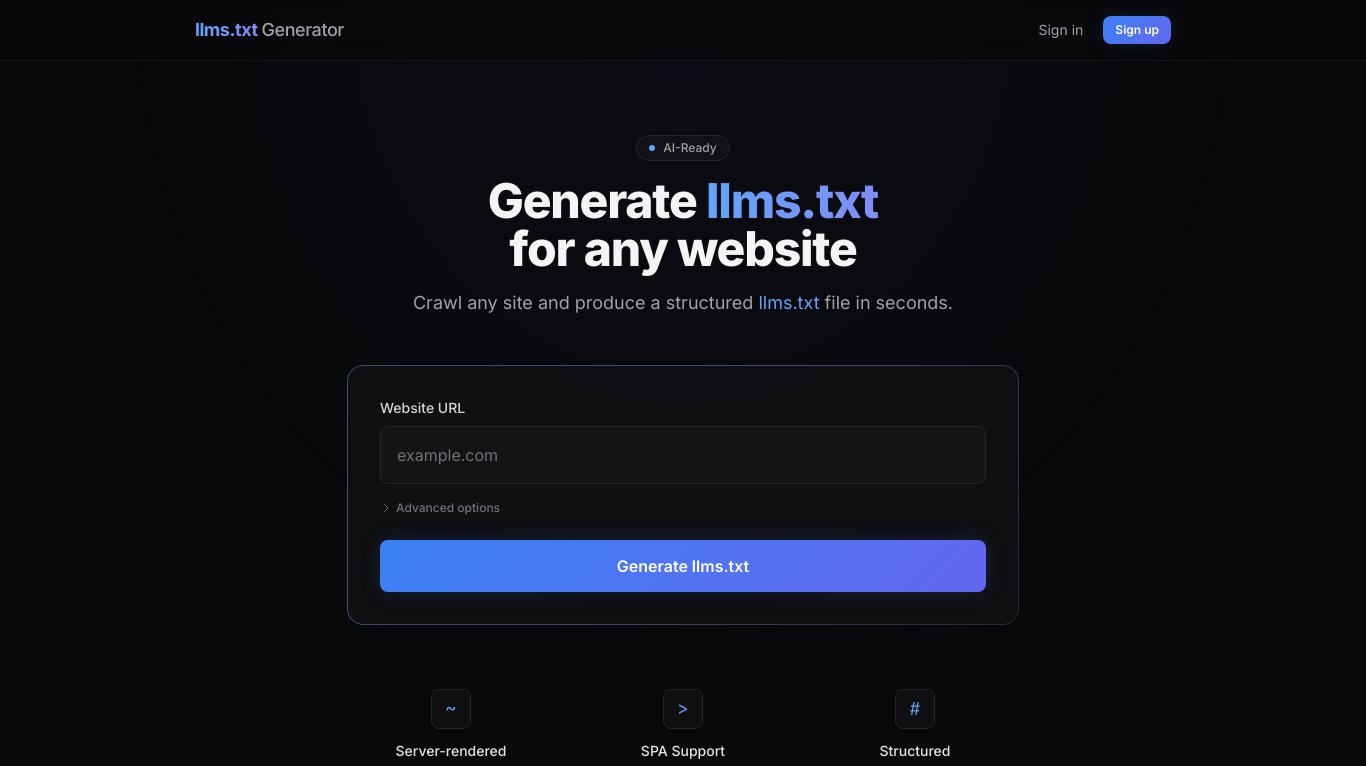
Test case: HomePage › reveals advanced options when toggled
Expected: the text "Max depth" is not shown
Click the button "Advanced options" at {"x": 440, "y": 508}, box [380,500,500,516]
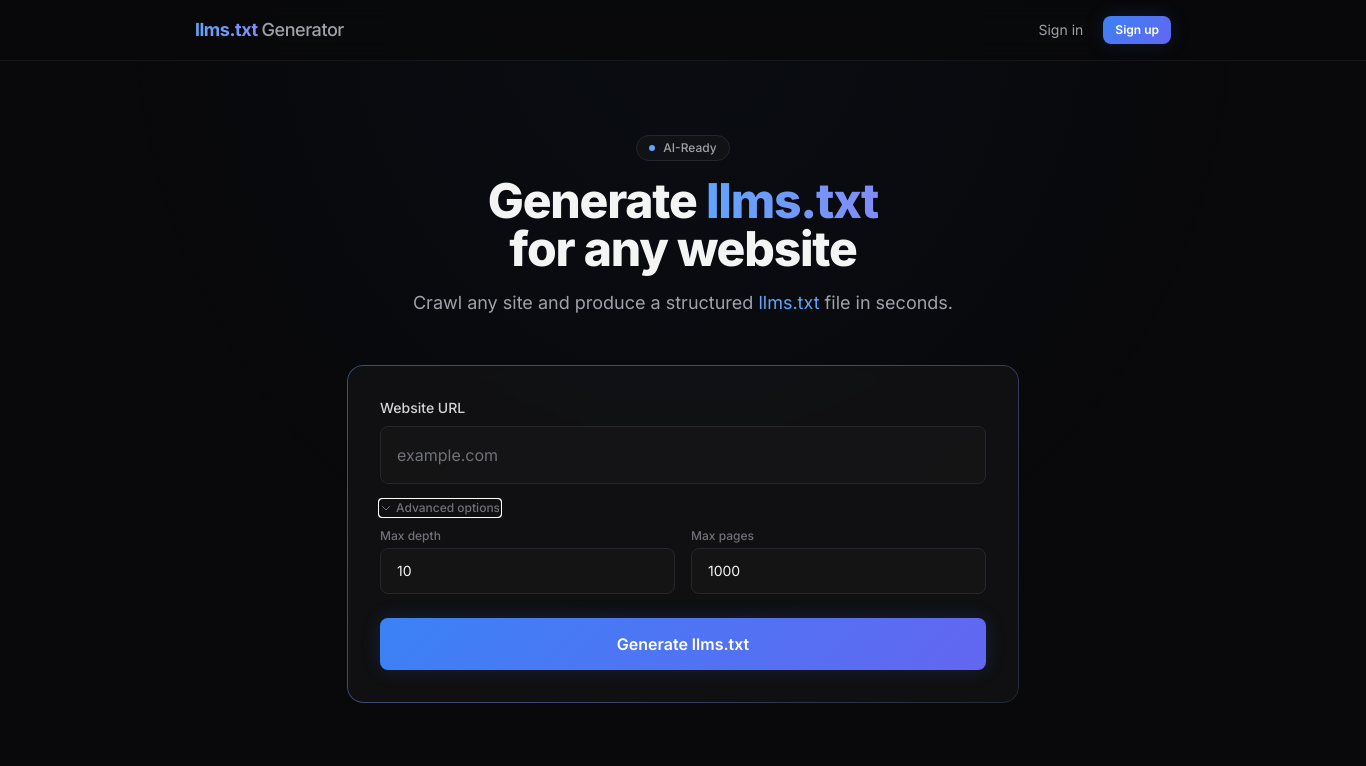
Now the text "Max depth" is shown, box [380,528,441,543]
Now the text "Max pages" is shown, box [691,528,754,543]
